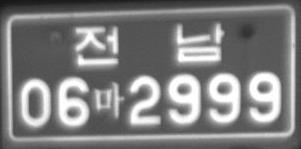0: (19, 77, 51, 127)
2: (130, 74, 161, 124)
6: (56, 75, 90, 127)
9: (167, 71, 202, 125), (248, 70, 282, 123), (208, 71, 241, 125)
마: (94, 80, 125, 118)
전남_D: (75, 22, 226, 66)
